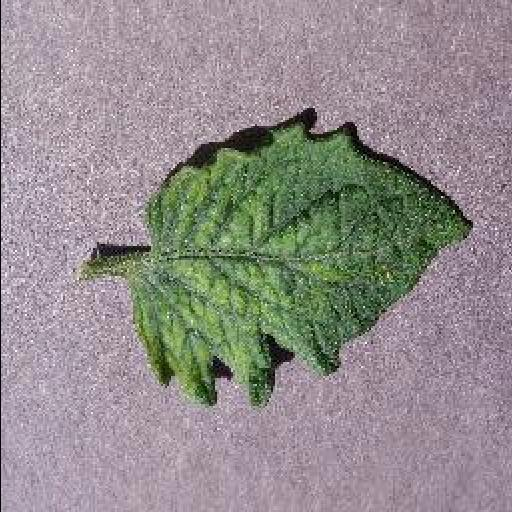disease_tomato: (131, 122, 473, 412)
